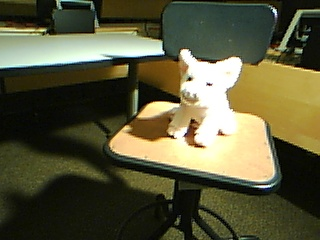piggy: (167, 47, 243, 147)
